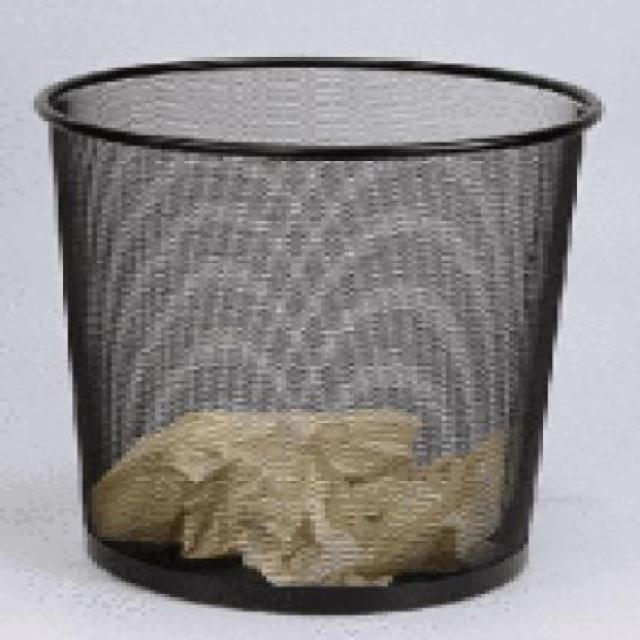dustbin: (28, 49, 610, 622)
